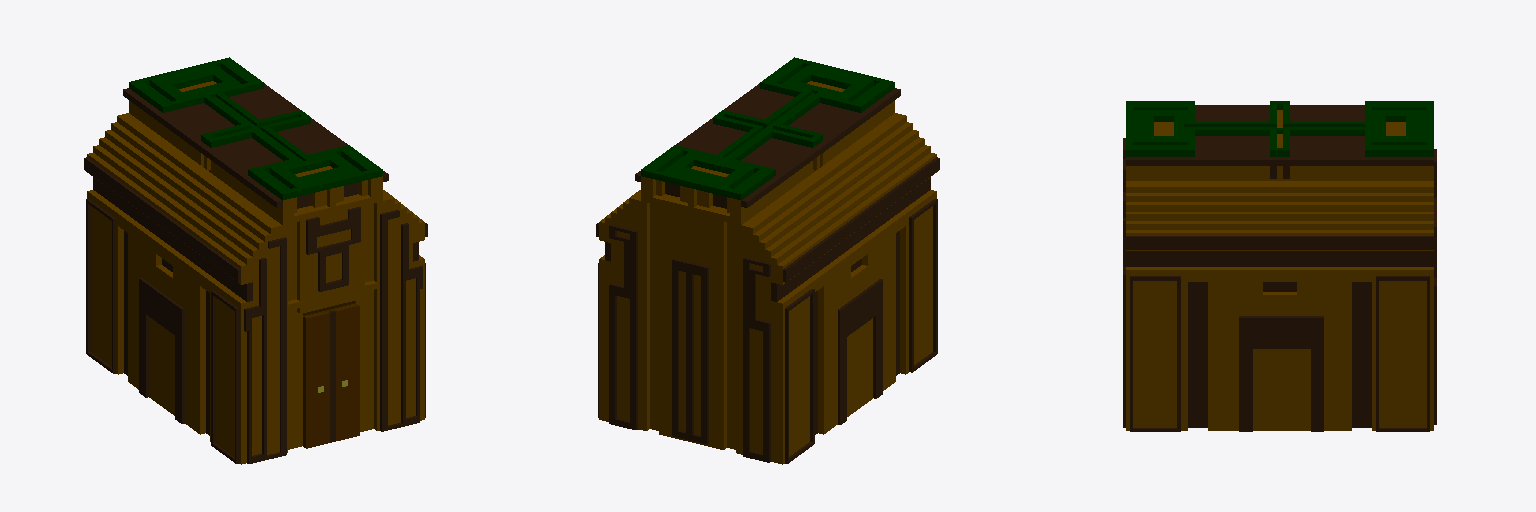
3 views of the same model, side by side, from view 1: azimuth 30°, elevation 25°; view 2: azimuth 150°, elevation 25°; view 3: azimuth 270°, elevation 25° (orthographic).
Bounding box in the file's own units: 64 × 84 × 92.
Materials: 1 (1 with a texture image).